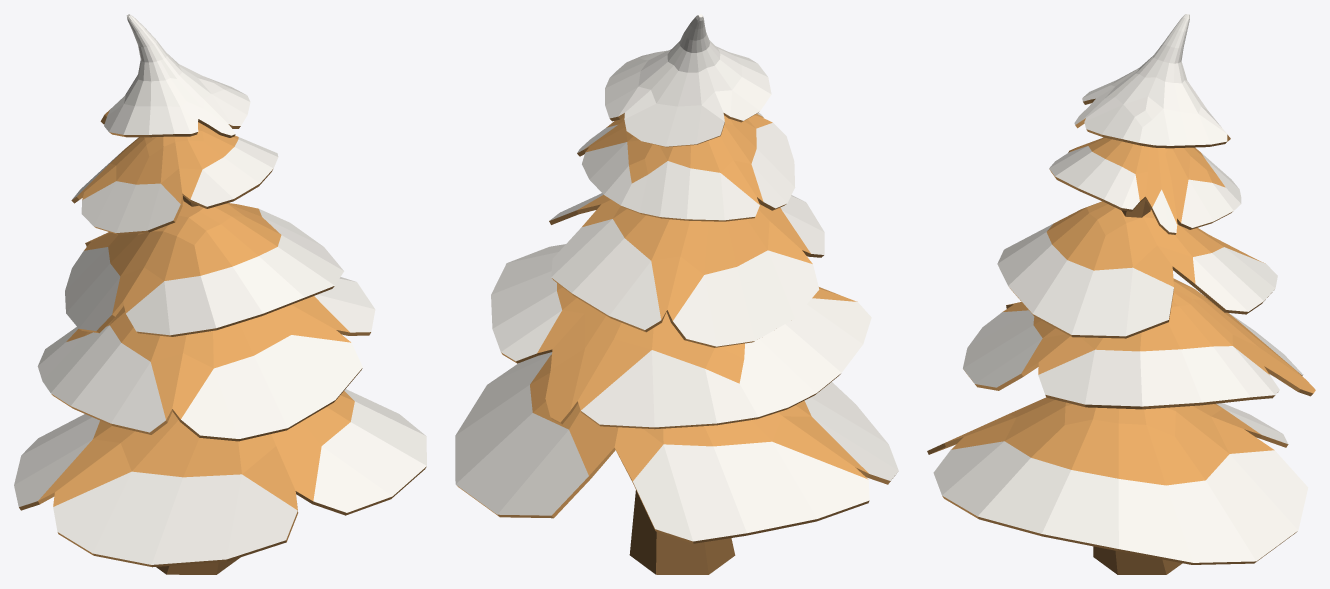
Rendered from PineTree_Snow_1.glb.
3 renders of one model, left to right at view 1: azimuth 30°, elevation 25°; view 2: azimuth 150°, elevation 25°; view 3: azimuth 270°, elevation 25°, orthographic. The views are drawn at different scales.
Visible parts, largest first — view 1: PineTree_Snow_1; view 2: PineTree_Snow_1; view 3: PineTree_Snow_1.
Boxes of the visible parts, x1,y1,x2,y2 form: PineTree_Snow_1: (14, 14, 426, 574); PineTree_Snow_1: (455, 14, 898, 574); PineTree_Snow_1: (927, 14, 1315, 574).
Size of the model in its own units: 1.96 by 2.7 by 1.82.
